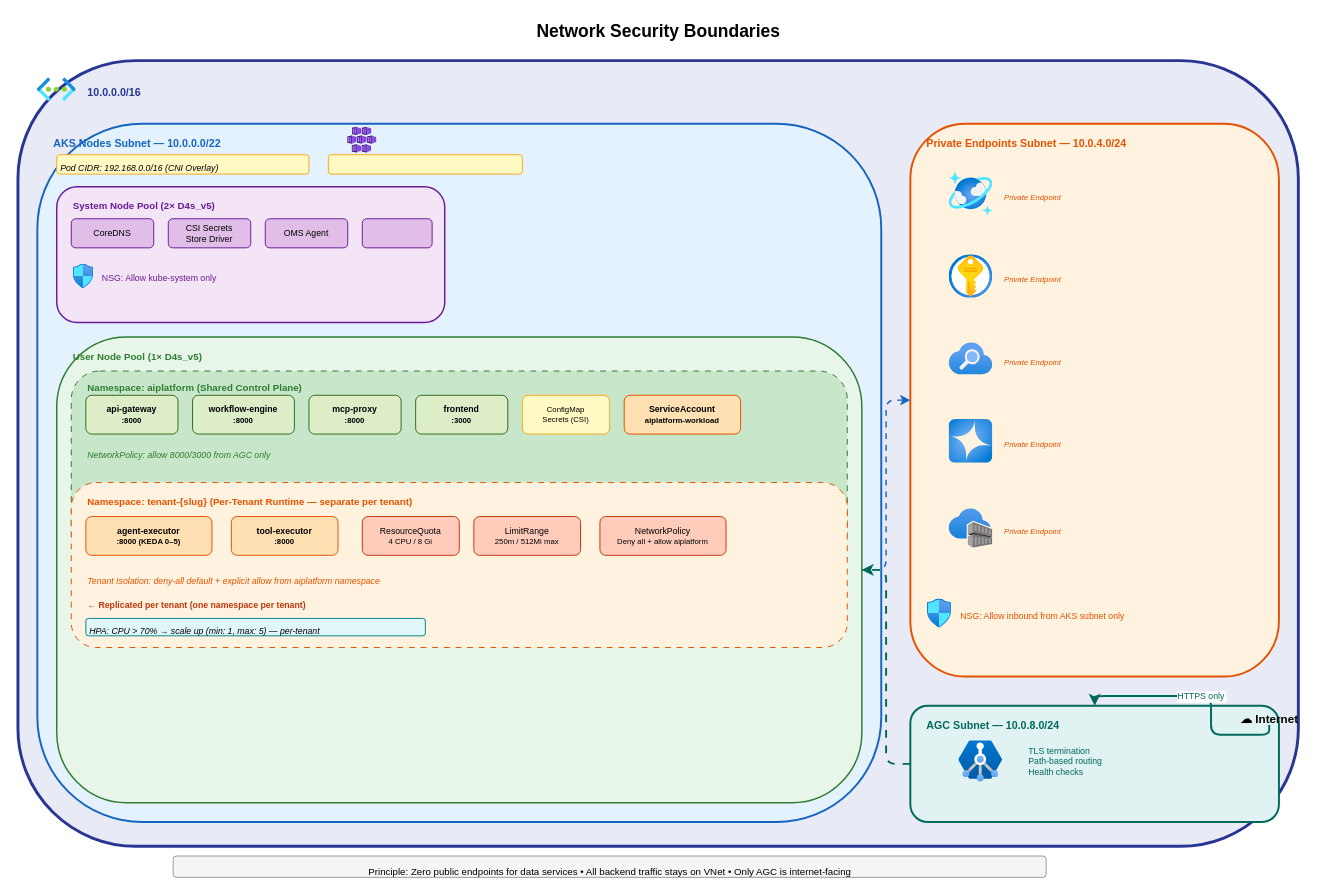
Some shapes in this 1335 by 894 pixel diagram are drawn without their labels. Each missing label, with the centre of its shape:
ACR: point 970,528
AGC: point 980,761
AGC Ingress Controller: point 396,233
AI Search: point 970,358
Azure OpenAI: point 970,441
Azure VNet: point 56,89
Cosmos DB: point 970,193
Key Vault: point 970,276
Service CIDR: 172.16.0.0/16: point 424,164
